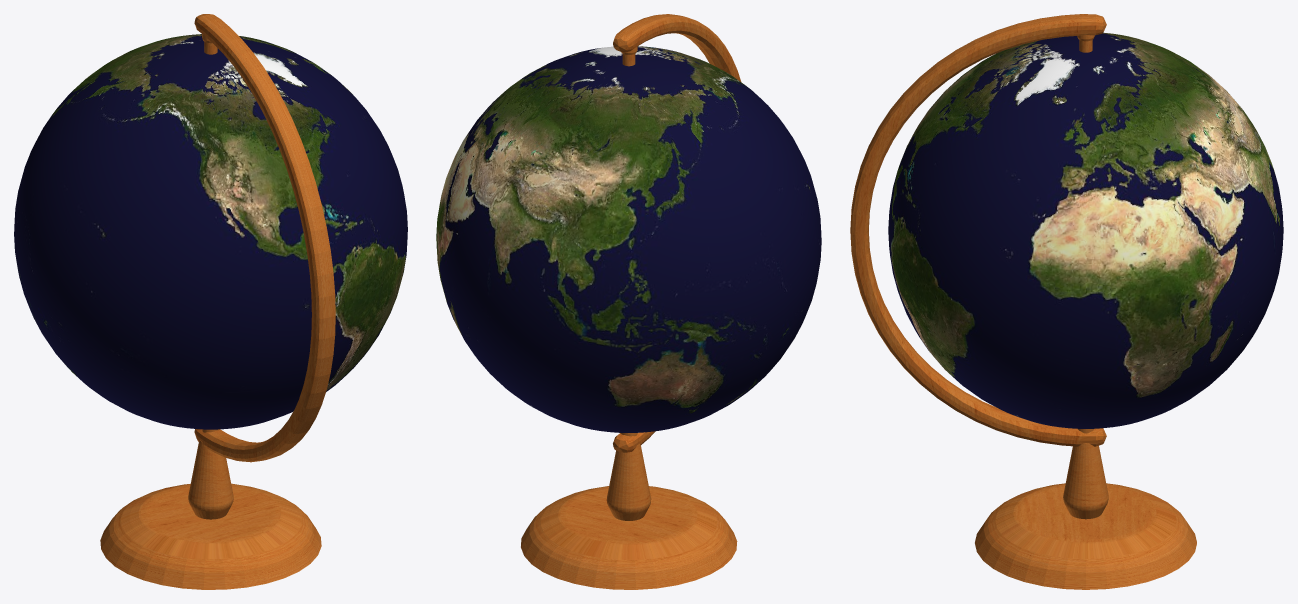
The model's file is globe.fbx.
3 renders of one model, left to right at view 1: azimuth 30°, elevation 25°; view 2: azimuth 150°, elevation 25°; view 3: azimuth 270°, elevation 25°, orthographic. The views are drawn at different scales.
Parts seen in each view (by area): view 1: Sphere, Cylinder, Cylinder.002, Cylinder.001; view 2: Sphere, Cylinder, Cylinder.002, Cylinder.001; view 3: Sphere, Cylinder, Cylinder.002, Cylinder.001.
Boxes of the visible parts, <box> form: Sphere: <box>14,34,407,429</box>; Cylinder: <box>100,483,321,589</box>; Cylinder.002: <box>194,14,335,462</box>; Cylinder.001: <box>188,440,233,519</box>; Sphere: <box>436,46,821,432</box>; Cylinder: <box>521,486,737,589</box>; Cylinder.002: <box>613,14,741,452</box>; Cylinder.001: <box>606,443,651,520</box>; Sphere: <box>888,32,1283,428</box>; Cylinder: <box>975,483,1196,589</box>; Cylinder.002: <box>850,14,1106,446</box>; Cylinder.001: <box>1063,443,1108,519</box>.
Bounding box in the file's own units: 178 × 261 × 195.
